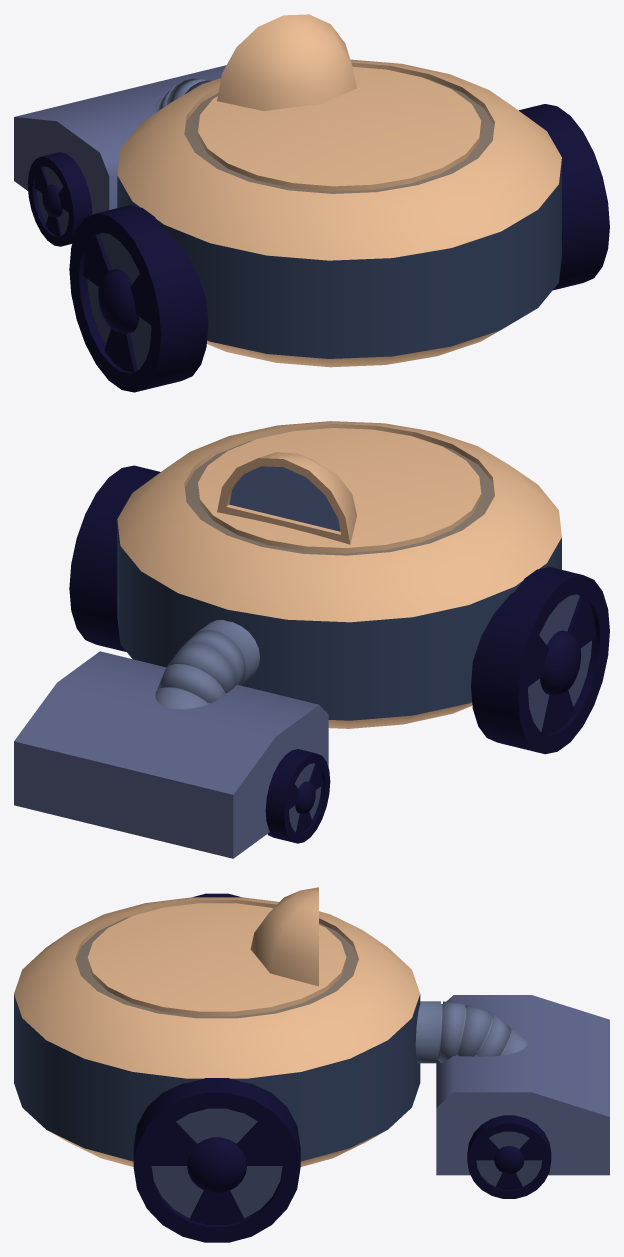
Rendered from Robot.fbx.
The picture shows the model from 3 angles, top to bottom: view 1: azimuth 30°, elevation 25°; view 2: azimuth 150°, elevation 25°; view 3: azimuth 270°, elevation 25°; orthographic projection. The views are drawn at different scales.
Visible parts, largest first — view 1: Cylinder.028, Cylinder.030, Cube.028, Sphere.005, Cylinder.031, Plane.008; view 2: Cylinder.028, Cube.028, Cylinder.030, Sphere.005, Plane.008, Cylinder.031; view 3: Cylinder.028, Cylinder.030, Cube.028, Cylinder.031, Plane.008, Sphere.005.
Part boxes in pixels (x1=…): Cylinder.028: x1=117, y1=59, x2=561, y2=367; Cylinder.030: x1=69, y1=104, x2=609, y2=392; Cube.028: x1=14, y1=65, x2=226, y2=214; Sphere.005: x1=217, y1=14, x2=356, y2=111; Cylinder.031: x1=27, y1=152, x2=92, y2=246; Plane.008: x1=155, y1=78, x2=212, y2=112; Cylinder.028: x1=117, y1=421, x2=561, y2=728; Cube.028: x1=14, y1=651, x2=328, y2=858; Cylinder.030: x1=69, y1=465, x2=609, y2=754; Sphere.005: x1=217, y1=452, x2=356, y2=544; Plane.008: x1=155, y1=620, x2=259, y2=709; Cylinder.031: x1=265, y1=749, x2=330, y2=843; Cylinder.028: x1=14, y1=897, x2=420, y2=1166; Cylinder.030: x1=133, y1=893, x2=300, y2=1242; Cube.028: x1=436, y1=995, x2=609, y2=1175; Cylinder.031: x1=467, y1=1115, x2=551, y2=1198; Plane.008: x1=415, y1=1001, x2=527, y2=1063; Sphere.005: x1=250, y1=887, x2=318, y2=986.
Size of the model in its own units: 111 by 61.81 by 134.
